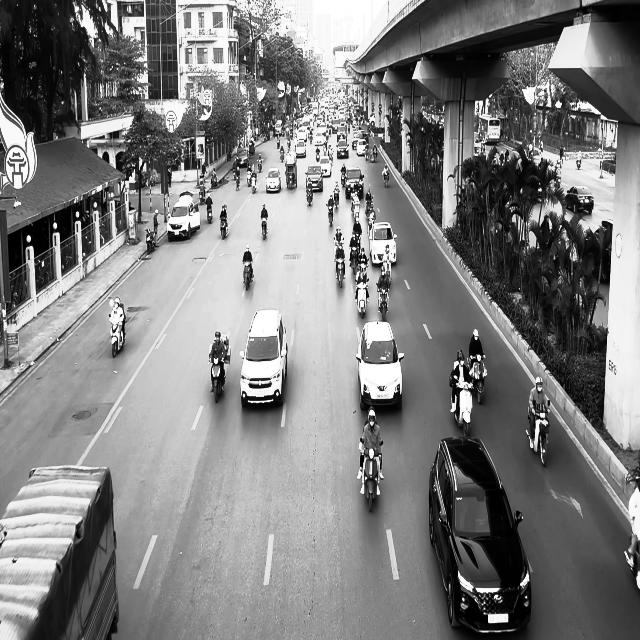bus: (478, 114, 501, 144)
car: (428, 436, 532, 634), (240, 308, 288, 408), (356, 320, 404, 410), (167, 199, 200, 241), (369, 221, 397, 266), (565, 185, 594, 214), (266, 168, 281, 192)
motorbike: (359, 437, 383, 513), (526, 405, 550, 466), (450, 377, 473, 436), (466, 354, 487, 404), (108, 313, 126, 357), (209, 356, 225, 403), (354, 278, 370, 318), (376, 281, 390, 320), (243, 260, 253, 290), (145, 228, 155, 254), (305, 174, 313, 205), (220, 216, 229, 239), (260, 216, 268, 240), (326, 202, 334, 225), (382, 169, 389, 188), (206, 202, 212, 223)
truck: (0, 464, 119, 639)
